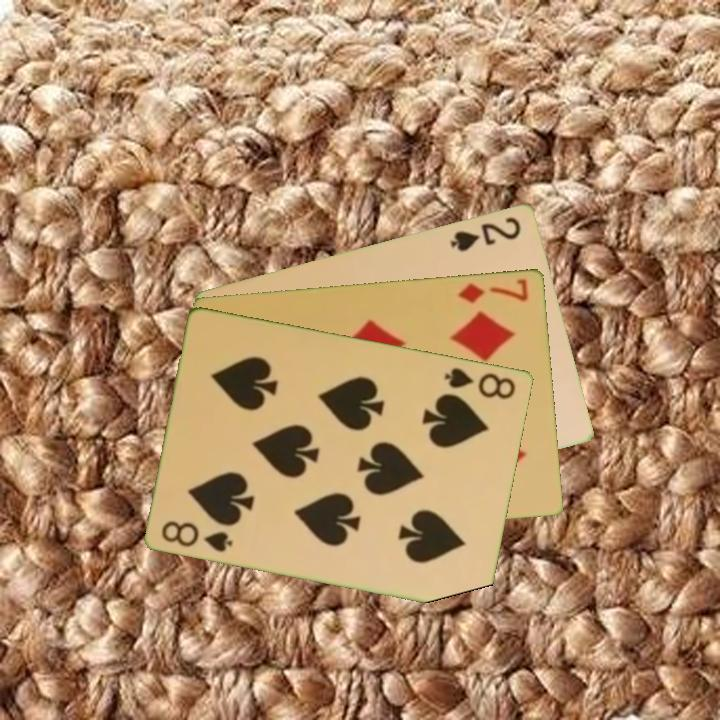2s: (447, 213, 524, 254)
7d: (455, 275, 532, 306)
8s: (441, 363, 519, 402), (158, 517, 237, 555)
